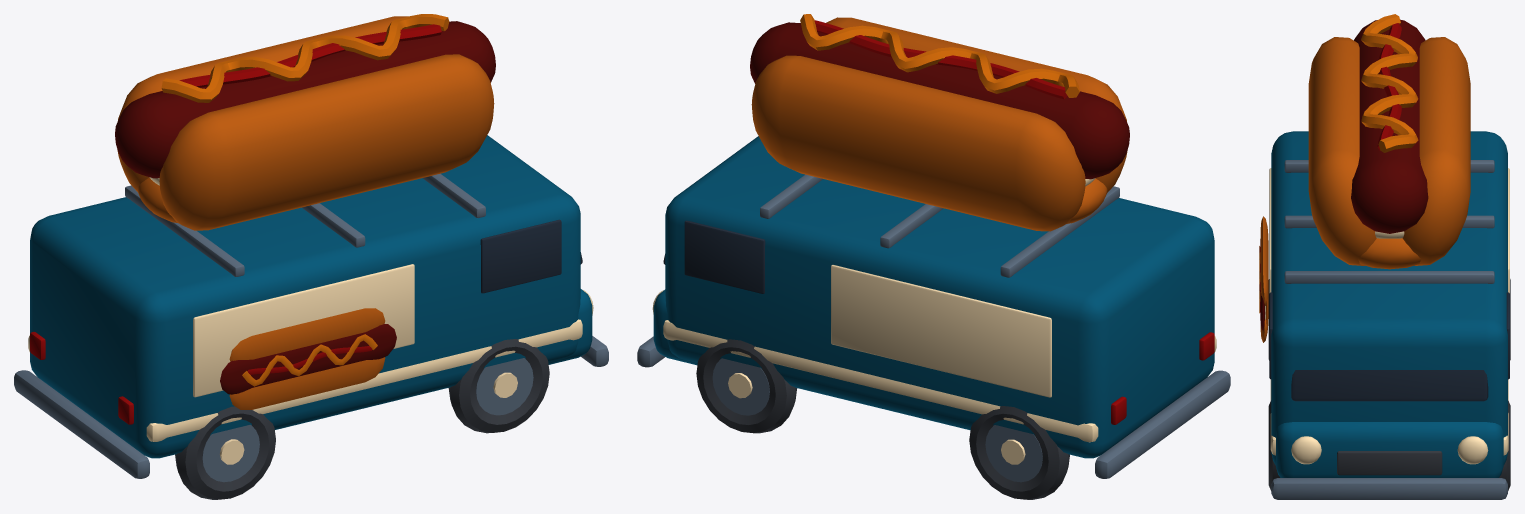
The model's file is DeliveryVan.obj.
3 renders of one model, left to right at view 1: azimuth 30°, elevation 25°; view 2: azimuth 150°, elevation 25°; view 3: azimuth 270°, elevation 25°, orthographic. The views are drawn at different scales.
Parts seen in each view (by area): view 1: DeliveryVan; view 2: DeliveryVan; view 3: DeliveryVan.
Part boxes in pixels (left/top/right/bottom): DeliveryVan: left=14, top=14, right=608, bottom=499; DeliveryVan: left=637, top=14, right=1230, bottom=499; DeliveryVan: left=1259, top=14, right=1510, bottom=499.
Size of the model in its own units: 11.8 by 8.91 by 5.74.
